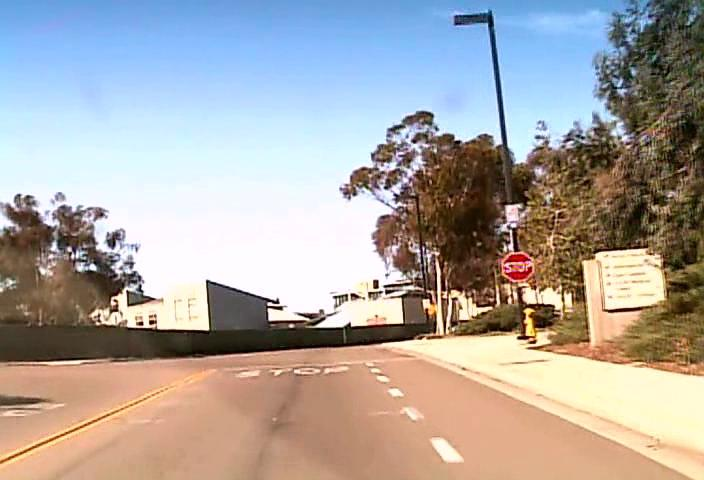stop: (501, 251, 534, 282)
